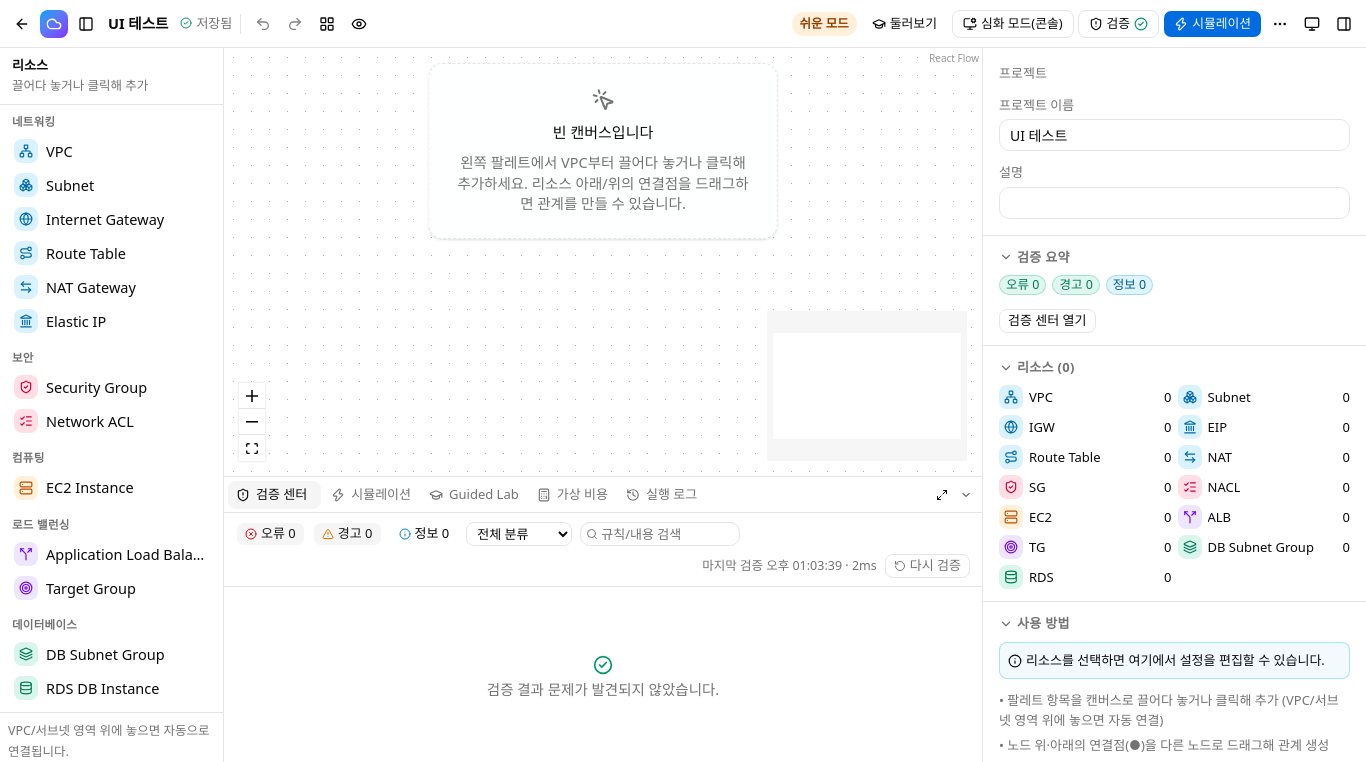
Test case: Architecture Builder UI › 팔레트를 클릭하면 리소스가 생성되고 캔버스에 노드가 나타난다
The width and height of the screenshot is (1366, 762).
Click the button with test id "palette-vpc" at (112, 151), box 8,135 -> 215,167
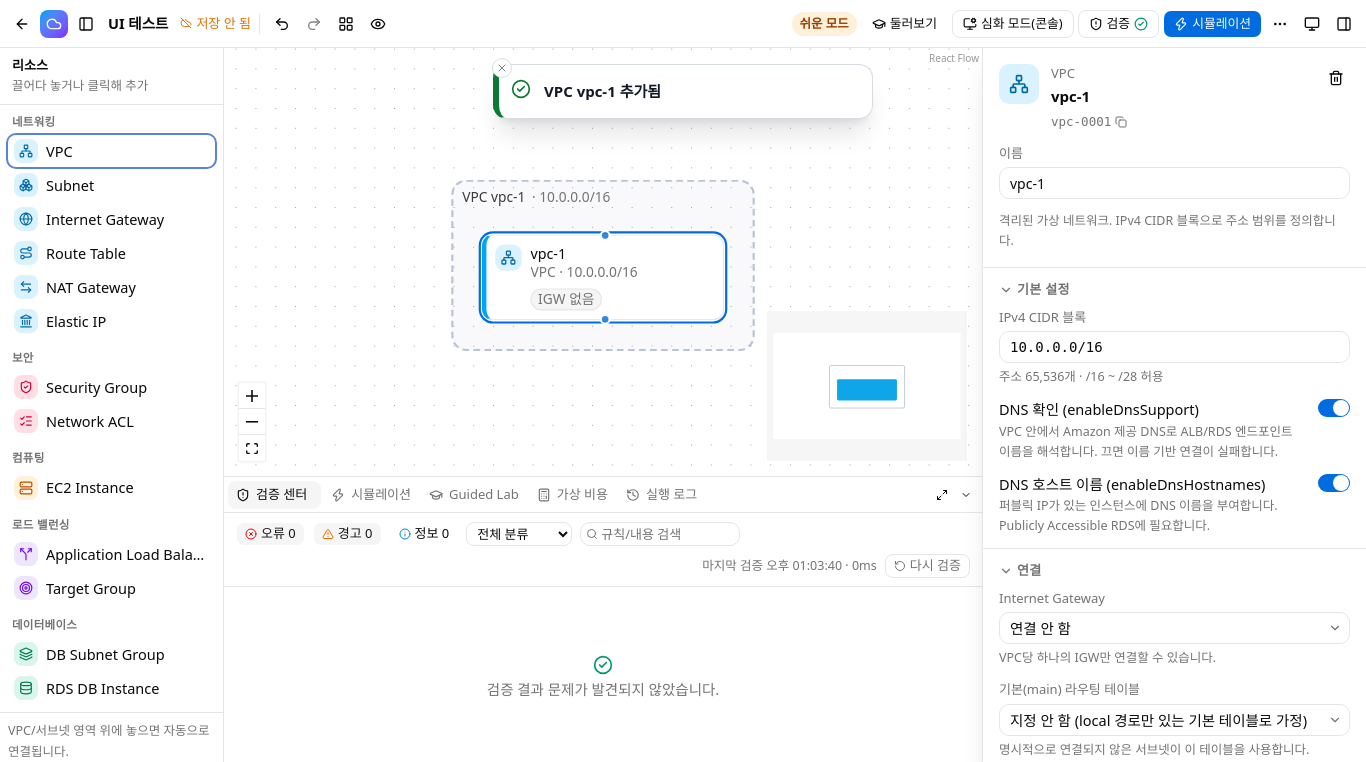
Expected: the element with test id "node-vpc-1" is shown, 482,234 -> 724,321
